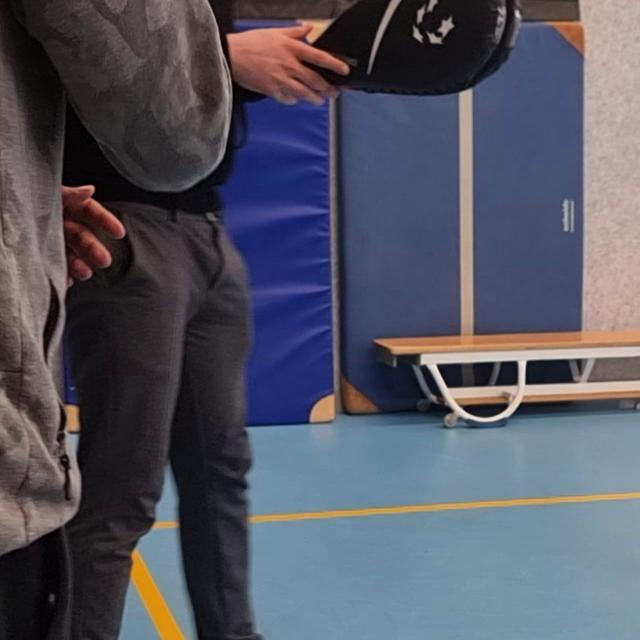paddle: (291, 0, 517, 102)
